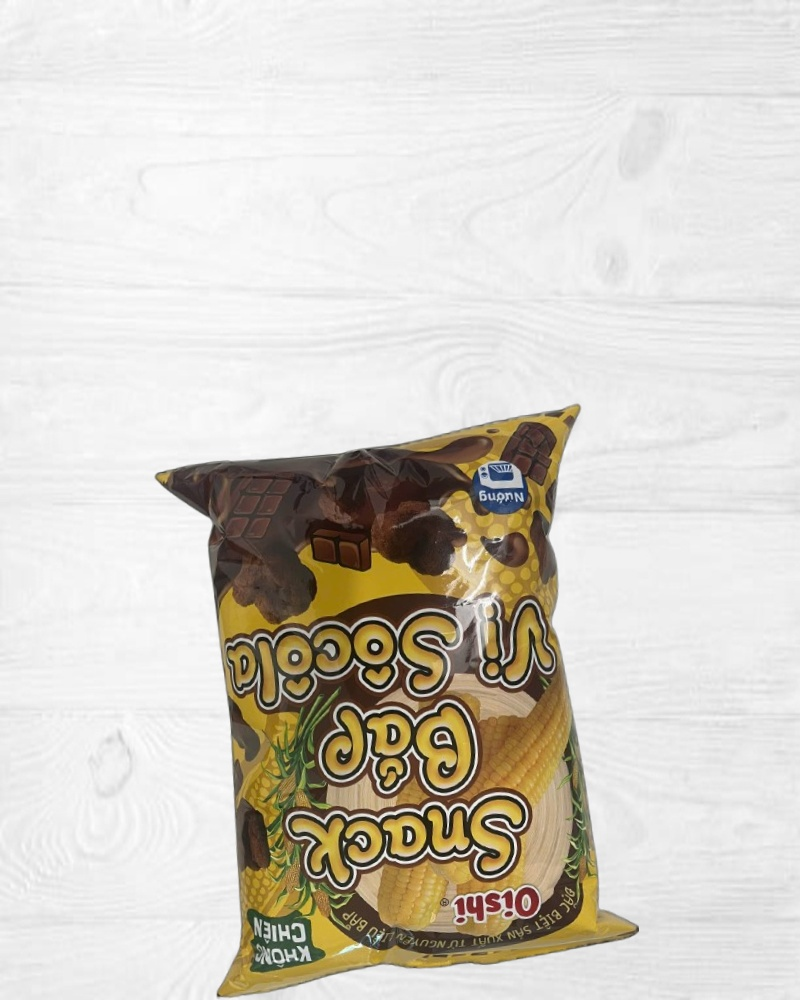Snack socola: (155, 406, 642, 998)
